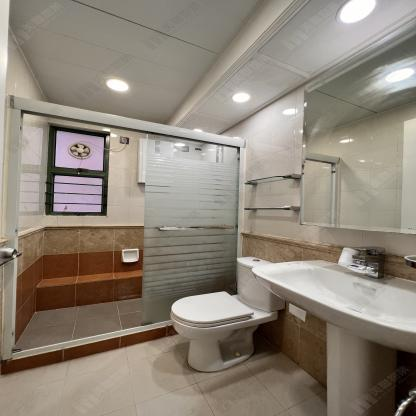Exhaust Fan: (67, 139, 96, 165)
Faucet: (344, 241, 391, 285)
Toilet: (166, 255, 288, 371)
Toilet Sink: (252, 259, 416, 351)
Water Cubicle: (2, 94, 245, 376)
